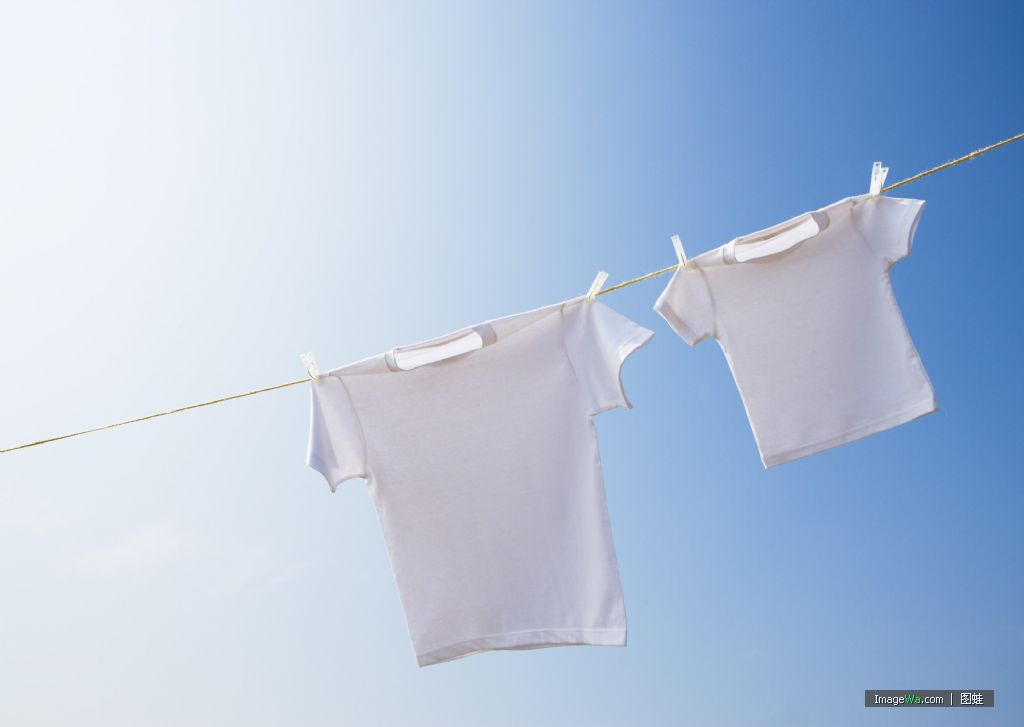flexible: (305, 302, 652, 668), (659, 193, 952, 469)
